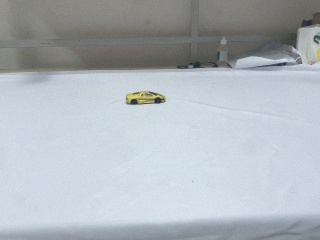bottle: (217, 37, 228, 68)
box: (296, 24, 320, 65)
toy_car: (126, 91, 166, 105)
